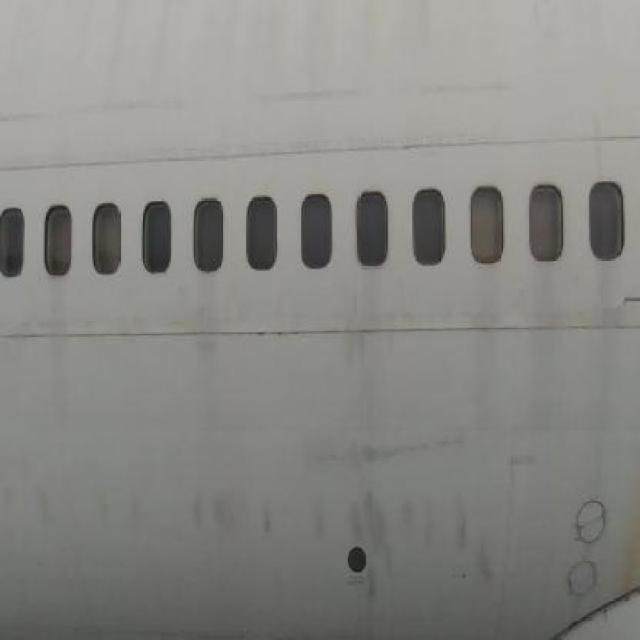Scartch: (304, 484, 502, 616), (307, 424, 471, 482), (1, 86, 188, 136), (185, 477, 281, 560), (252, 76, 371, 122), (399, 70, 521, 113), (91, 475, 149, 556), (21, 466, 67, 551), (503, 446, 545, 502)
